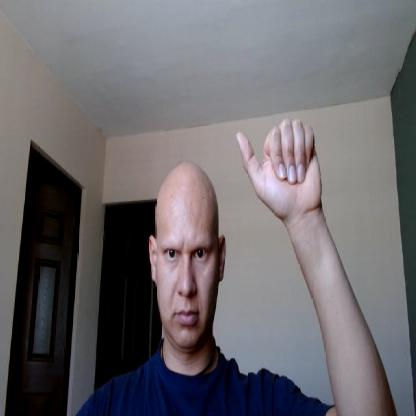A: (237, 117, 322, 218)
